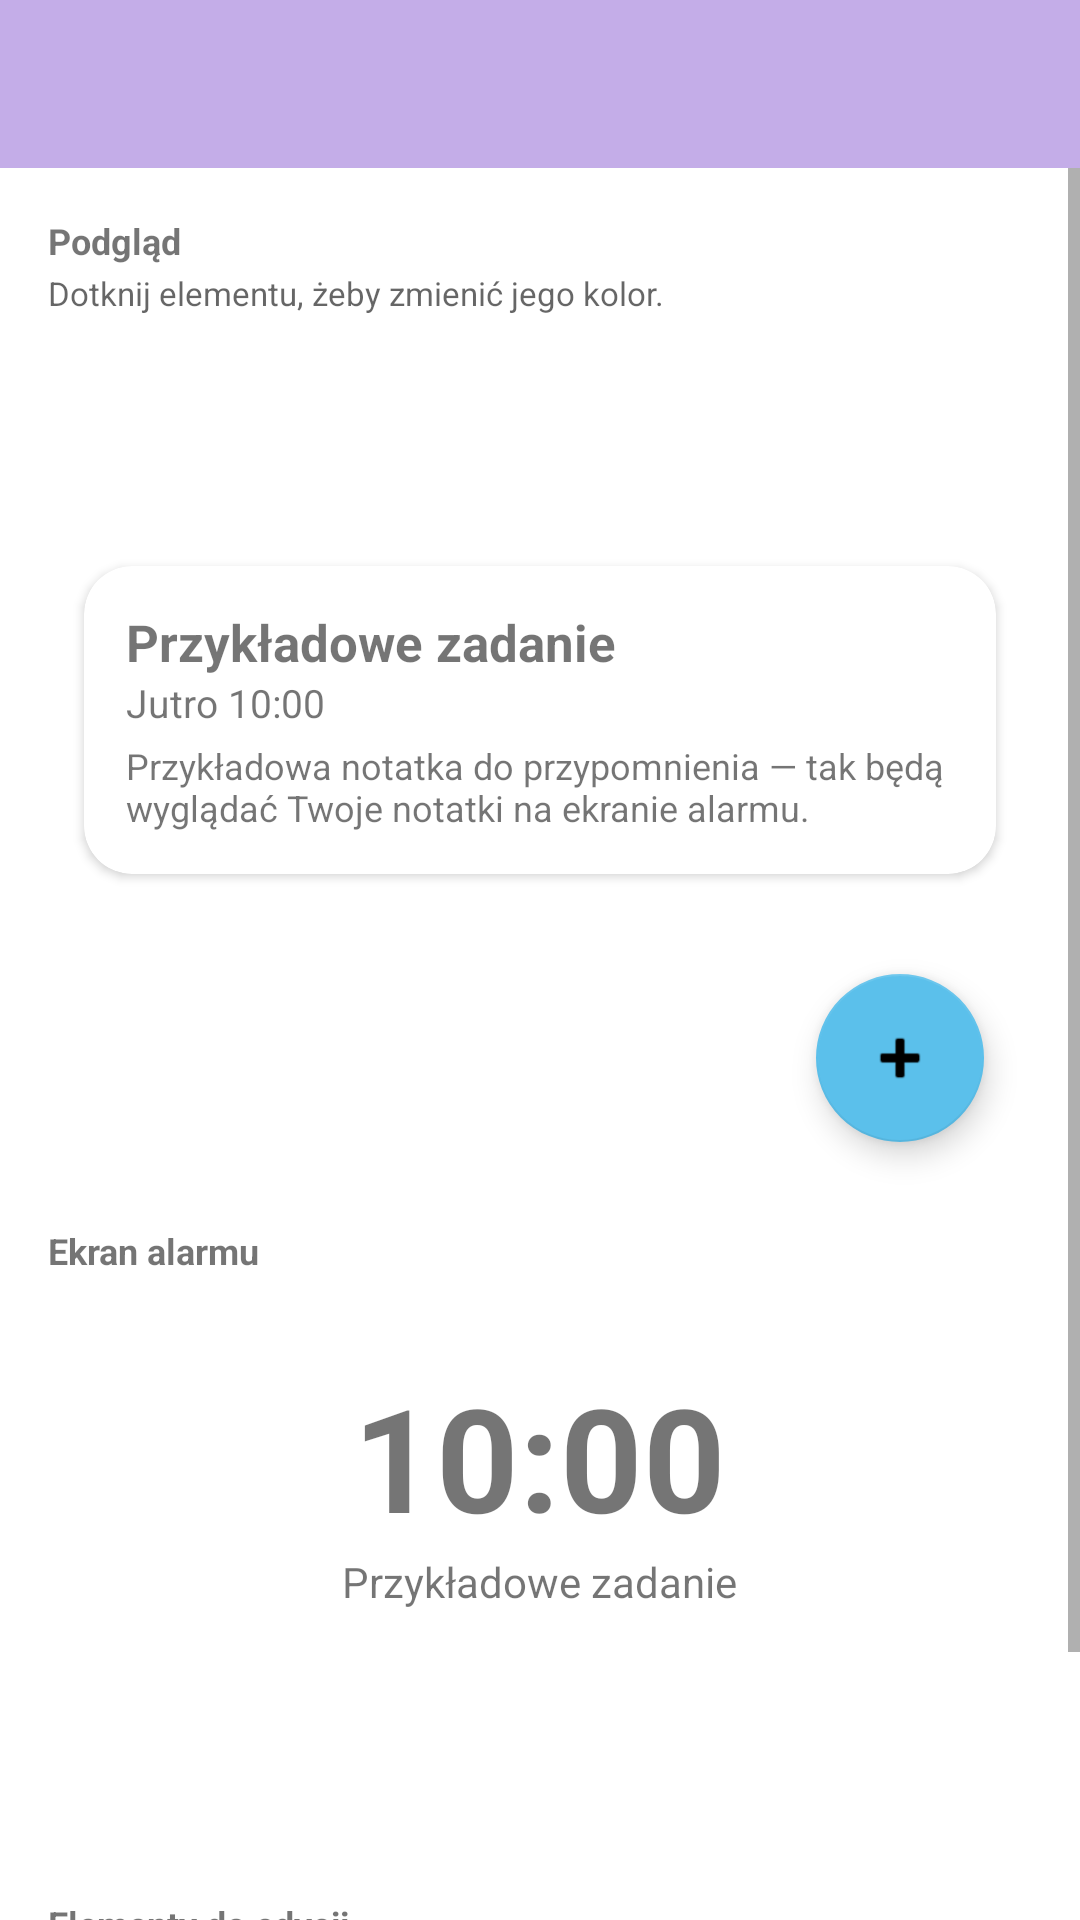

Where to tap for icons on this 1080px×1920px app screen, as (x=x, y=y):
Dodaj przypomnienie: (x=900, y=1058)
